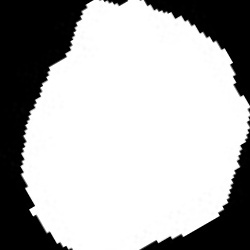spot: (22, 0, 250, 248)
